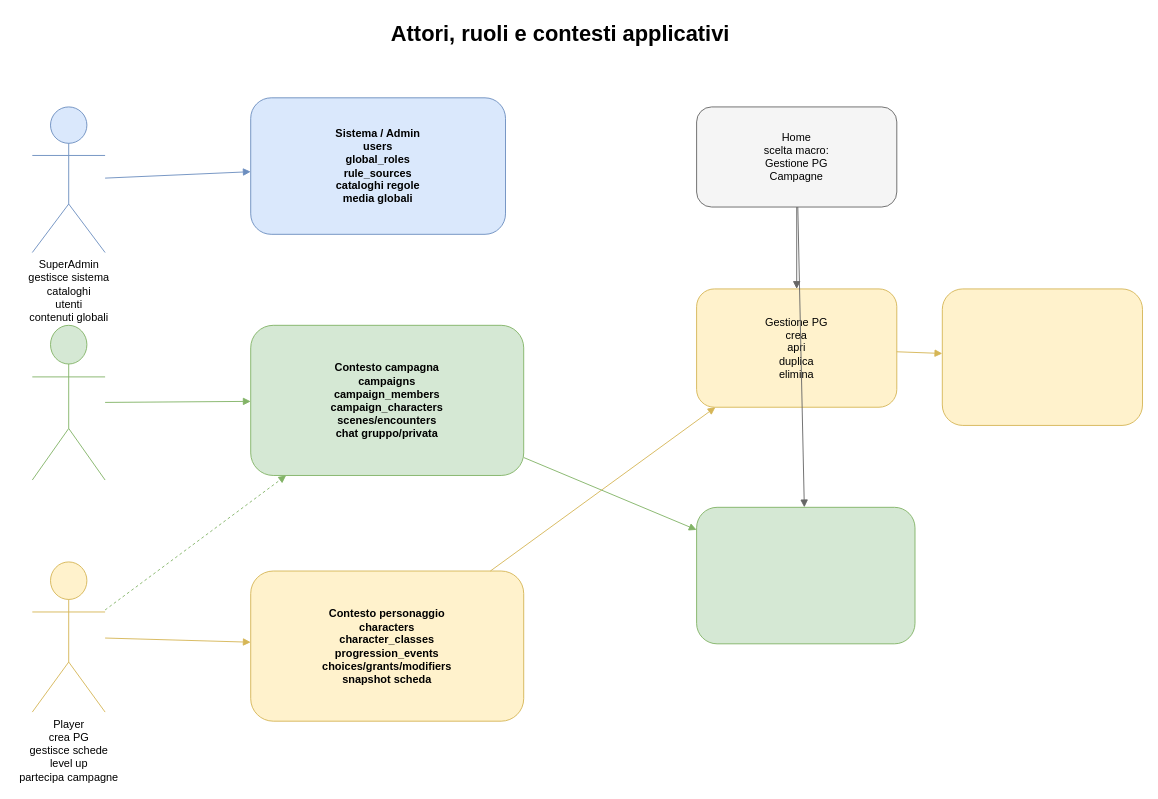
Some shapes in this 1158 by 799 pixel diagram are drawn without their labels. Each missing label, with the centre of its shape:
Le mie campagne party schede del gruppo mappe chat combattimento futuro: the point at 805,575
Master crea campagne gestisce party vede/modifica schede mappe, NPC, chat: the point at 68,402
Scheda PG Panoramica Capacita/Incantesimi Equipaggiamento Dettagli Progressione: the point at 1042,356
